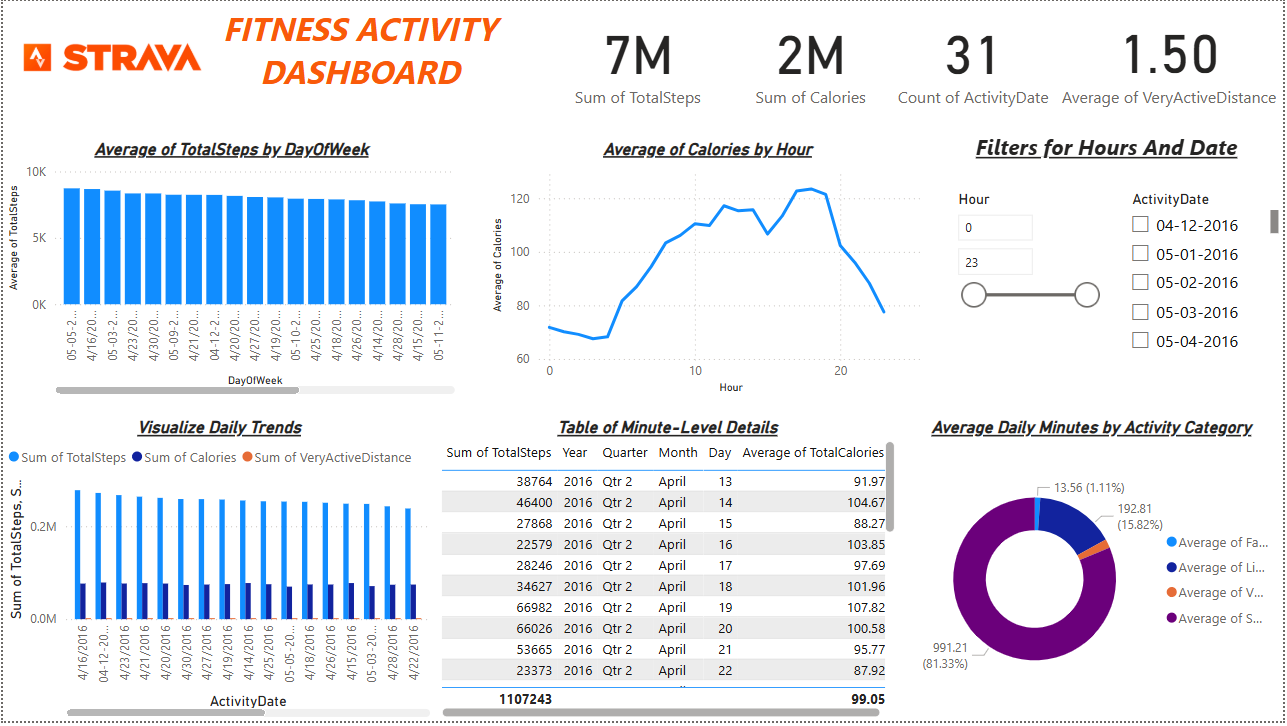

The dashboard page shown, as its layout file describes it:
{"tool":"powerbi","page":{"name":"Page 1","canvas":[1280,720],"ordinal":0},"visuals":[{"type":"card","fields":{"Values":["Sum(Daily Activity.TotalSteps)"]},"box":[543.4,0,182.5,115.3],"z":0},{"type":"card","fields":{"Values":["Sum(Daily Activity.Calories)"]},"box":[725.9,0,163.3,115.3],"z":1000},{"type":"card","fields":{"Values":["Count(Daily Activity.ActivityDate)"]},"box":[889.2,0,163.3,115.3],"z":2000},{"type":"clusteredColumnChart","title":"Visualize Daily Trends","fields":{"Category":["Daily Activity.ActivityDate"],"Y":["Sum(Daily Activity.TotalSteps)","Sum(Daily Activity.Calories)","Sum(Daily Activity.VeryActiveDistance)"]},"box":[0,415.9,431.7,304.3],"z":3000},{"type":"lineChart","fields":{"Category":["Hourly Activity.Hour"],"Y":["Avg(Hourly Activity.Calories)"]},"box":[484.4,137.2,441.9,273.1],"z":4000},{"type":"columnChart","fields":{"Category":["Daily Activity.DayOfWeek"],"Y":["Avg(Daily Activity.TotalSteps)"]},"box":[0,137.2,456.9,260.7],"z":5000},{"type":"tableEx","title":"Table of Minute-Level Details","fields":{"Values":["Sum(Minute Activity.TotalSteps)","Minute Activity.ActivityHour.Variation.Date Hierarchy.Year","Minute Activity.ActivityHour.Variation.Date Hierarchy.Quarter","Minute Activity.ActivityHour.Variation.Date Hierarchy.Month","Minute Activity.ActivityHour.Variation.Date Hierarchy.Day","Avg(Minute Activity.TotalCalories)"]},"box":[432.2,415.8,463.8,304.6],"z":6000},{"type":"slicer","fields":{"Values":["Daily Activity.ActivityDate"]},"box":[1117.7,189.5,162.6,178.5],"z":7000},{"type":"slicer","fields":{"Values":["Hourly Activity.Hour"]},"box":[942.8,189.5,162.6,207.9],"z":8000},{"type":"card","fields":{"Values":["Avg(Daily Activity.VeryActiveDistance)"]},"box":[1052.9,0,227.4,114.9],"z":9000},{"type":"textbox","box":[170.2,1.4,373.2,113.9],"z":10000},{"type":"image","box":[0,0,216.8,115.3],"z":11000},{"type":"donutChart","title":"Average Daily Minutes by Activity Category","fields":{"Y":["Avg(Daily Activity.FairlyActiveMinutes)","Avg(Daily Activity.LightlyActiveMinutes)","Avg(Daily Activity.VeryActiveMinutes)","Avg(Daily Activity.SedentaryMinutes)"]},"box":[896.1,415.8,384.2,304.6],"z":12000},{"type":"textbox","box":[942.8,114.9,337.5,74.6],"z":12001}]}

Visuals, with their boxes in screenshot pixels (x1, y1, x2, y2), scaled from the page's 1280x720 canvas onto the 1287x726 screenshot:
card - Sum(Daily Activity.TotalSteps): crop(546, 0, 730, 116)
card - Sum(Daily Activity.Calories): crop(730, 0, 894, 116)
card - Count(Daily Activity.ActivityDate): crop(894, 0, 1058, 116)
"Visualize Daily Trends" clusteredColumnChart: crop(0, 419, 434, 725)
lineChart - Hourly Activity.Hour x Avg(Hourly Activity.Calories): crop(487, 138, 931, 414)
columnChart - Daily Activity.DayOfWeek x Avg(Daily Activity.TotalSteps): crop(0, 138, 459, 401)
"Table of Minute-Level Details" tableEx: crop(435, 419, 901, 725)
slicer - Daily Activity.ActivityDate: crop(1124, 191, 1286, 371)
slicer - Hourly Activity.Hour: crop(948, 191, 1111, 401)
card - Avg(Daily Activity.VeryActiveDistance): crop(1059, 0, 1286, 116)
textbox: crop(171, 1, 546, 116)
image: crop(0, 0, 218, 116)
"Average Daily Minutes by Activity Category" donutChart: crop(901, 419, 1286, 725)
textbox: crop(948, 116, 1286, 191)
